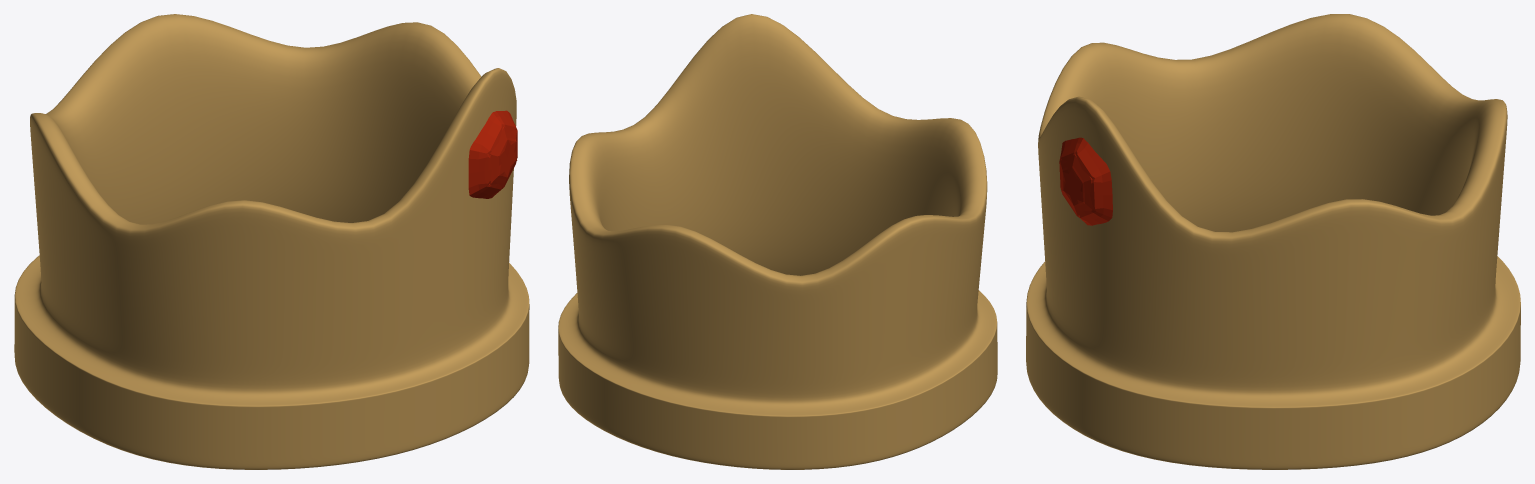
The model's file is crown.glb.
The picture shows the model from 3 angles, left to right: view 1: azimuth 30°, elevation 25°; view 2: azimuth 150°, elevation 25°; view 3: azimuth 270°, elevation 25°; orthographic projection. The views are drawn at different scales.
Visible parts, largest first — view 1: Circle, Circle_01; view 2: Circle; view 3: Circle, Circle_01.
Part boxes in pixels (x1,y1,x2,y2): Circle: [14, 14, 529, 469]; Circle_01: [468, 110, 517, 198]; Circle: [558, 14, 997, 469]; Circle: [1026, 14, 1520, 469]; Circle_01: [1059, 137, 1112, 225].
Bounding box in the file's own units: 2.1 × 1.52 × 2.09.
